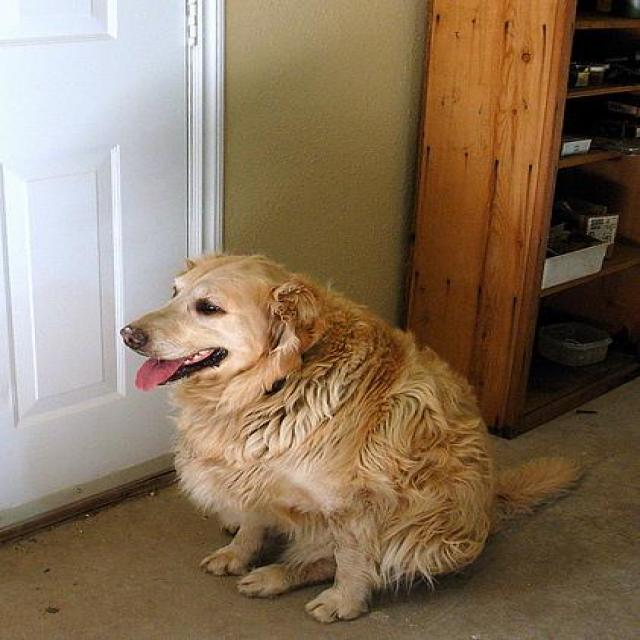sitting: (111, 247, 586, 623)
